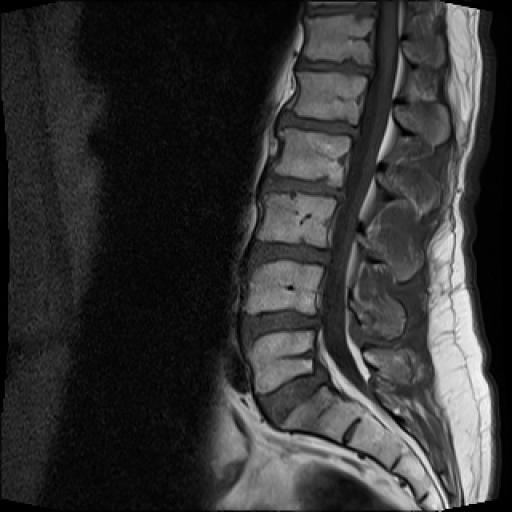L1: (293, 74, 366, 124)
L2: (276, 128, 351, 188), (258, 194, 337, 247)
L4: (244, 260, 322, 314)
L5: (249, 330, 313, 394)
S1: (281, 386, 364, 442)
